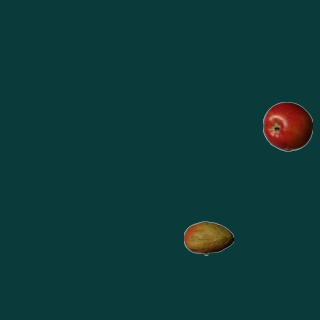Apple Braeburn: (262, 101, 312, 151)
Papaya: (183, 213, 233, 263)
